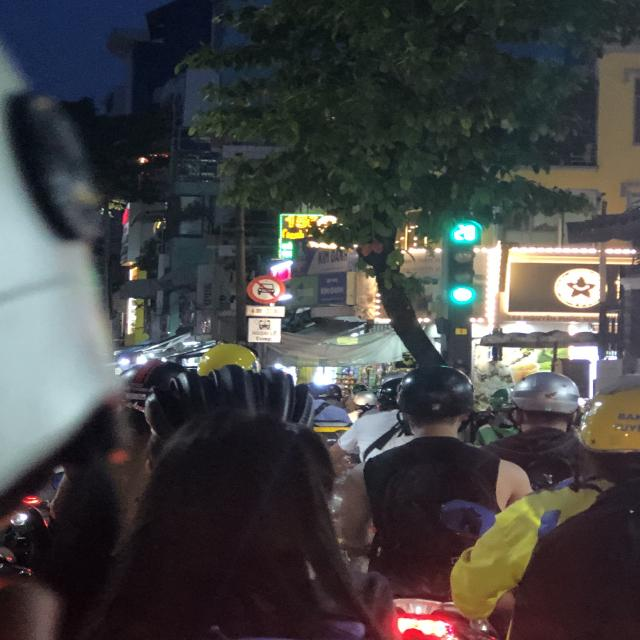Bien bao cam xe oto: (244, 270, 288, 304)
